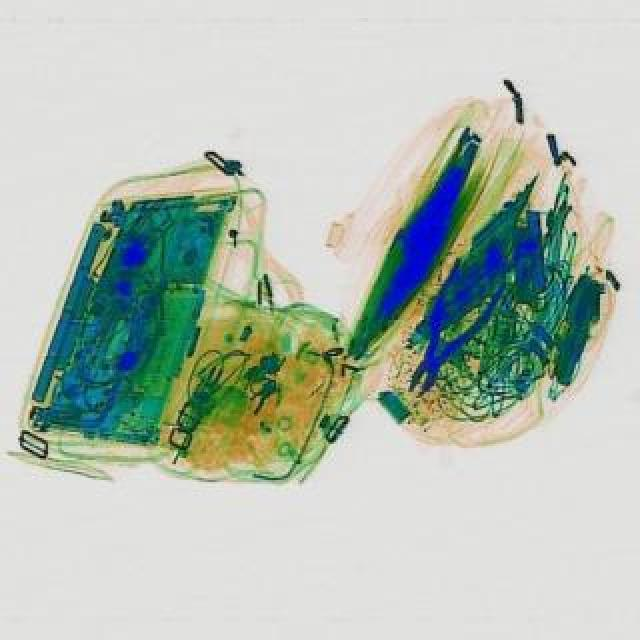wrench: (384, 250, 512, 406)
